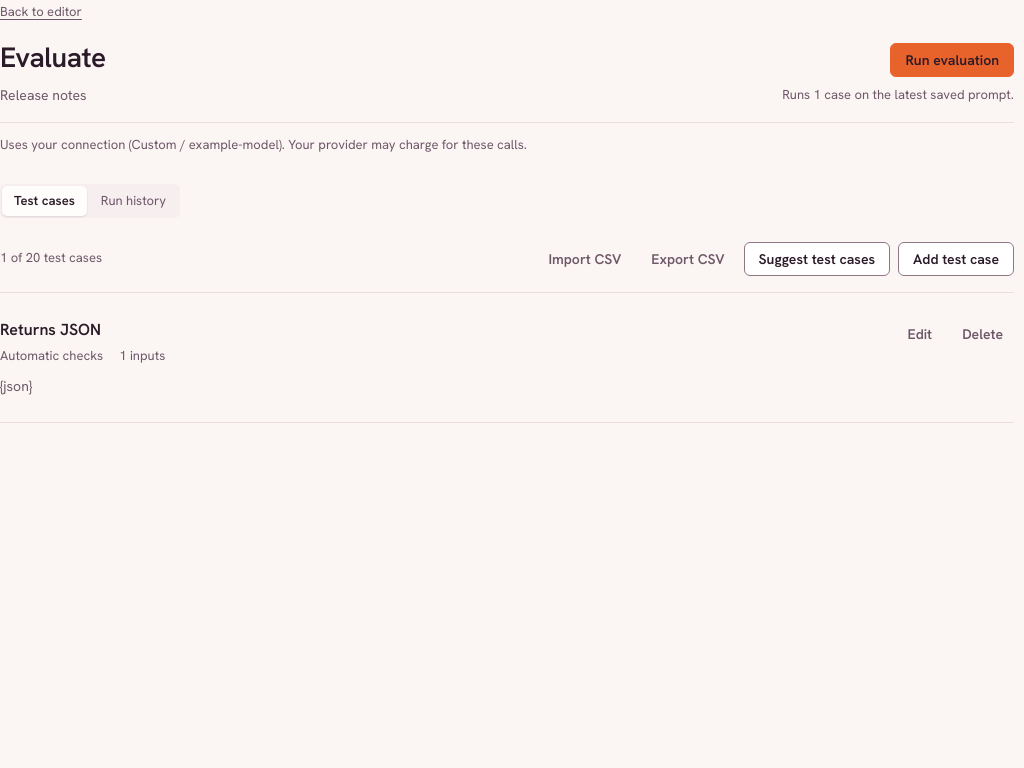
Scenario: requires confirmation before removing a case and keeps historical results
Check: the heading "Evaluate" is shown, box [0, 35, 106, 80]
Click the button with aria-label "Delete Returns JSON" at (983, 334), box [951, 317, 1014, 351]
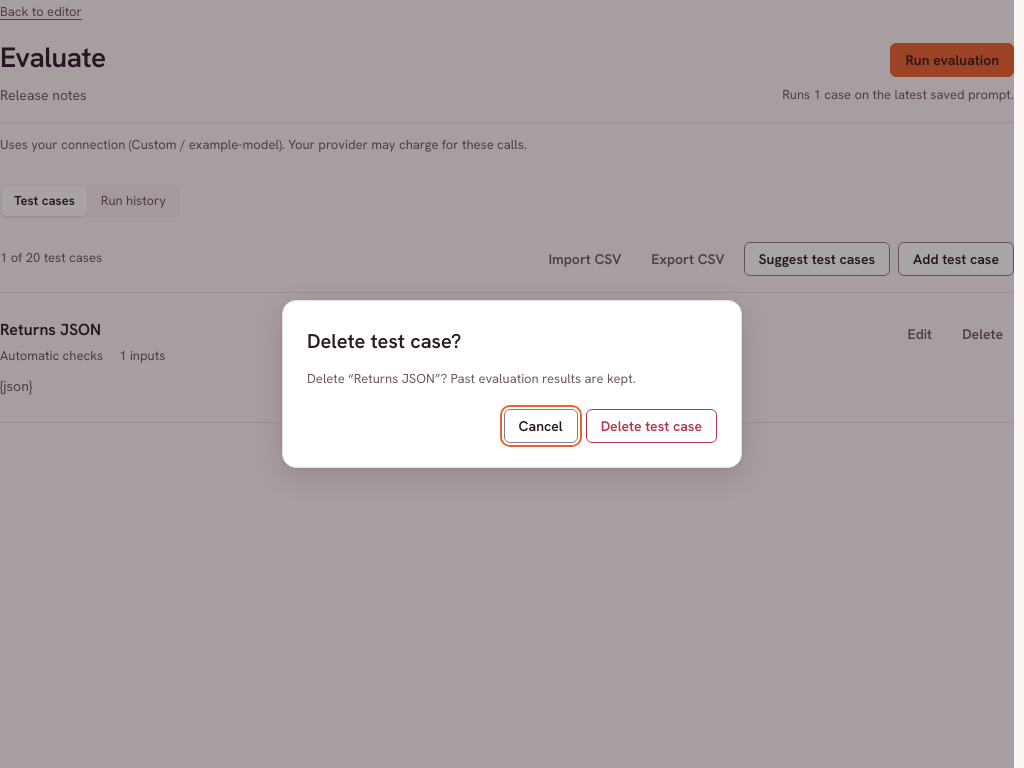
Check: the dialog "Delete test case?" shows "Past evaluation results are kept.", box [435, 370, 636, 387]
Click the button "Delete test case" at (651, 426), box [586, 409, 717, 443]
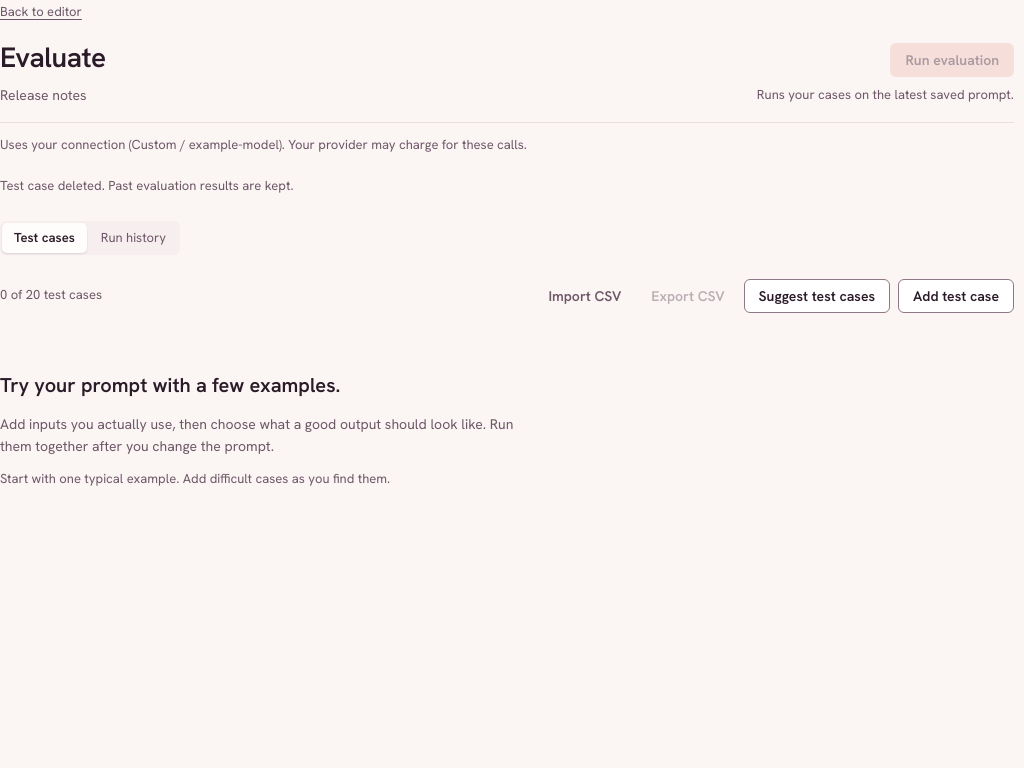
Check: the heading "Try your prompt with a few examples." is shown, box [0, 372, 340, 398]
